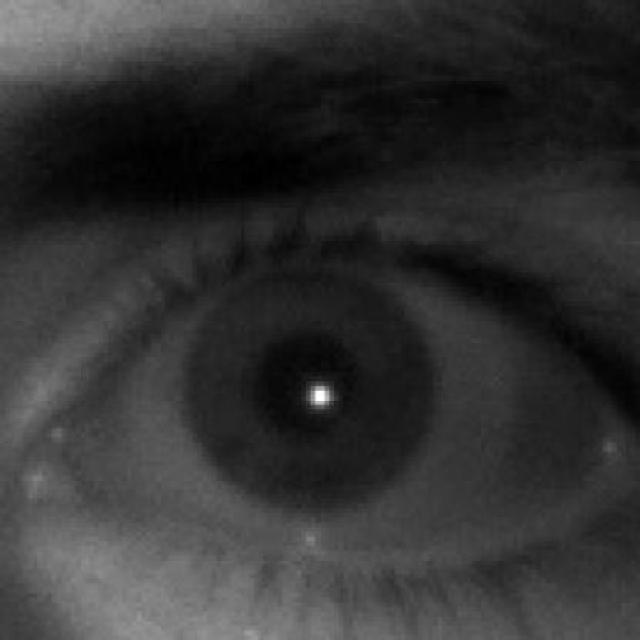awake: (4, 197, 636, 621)
